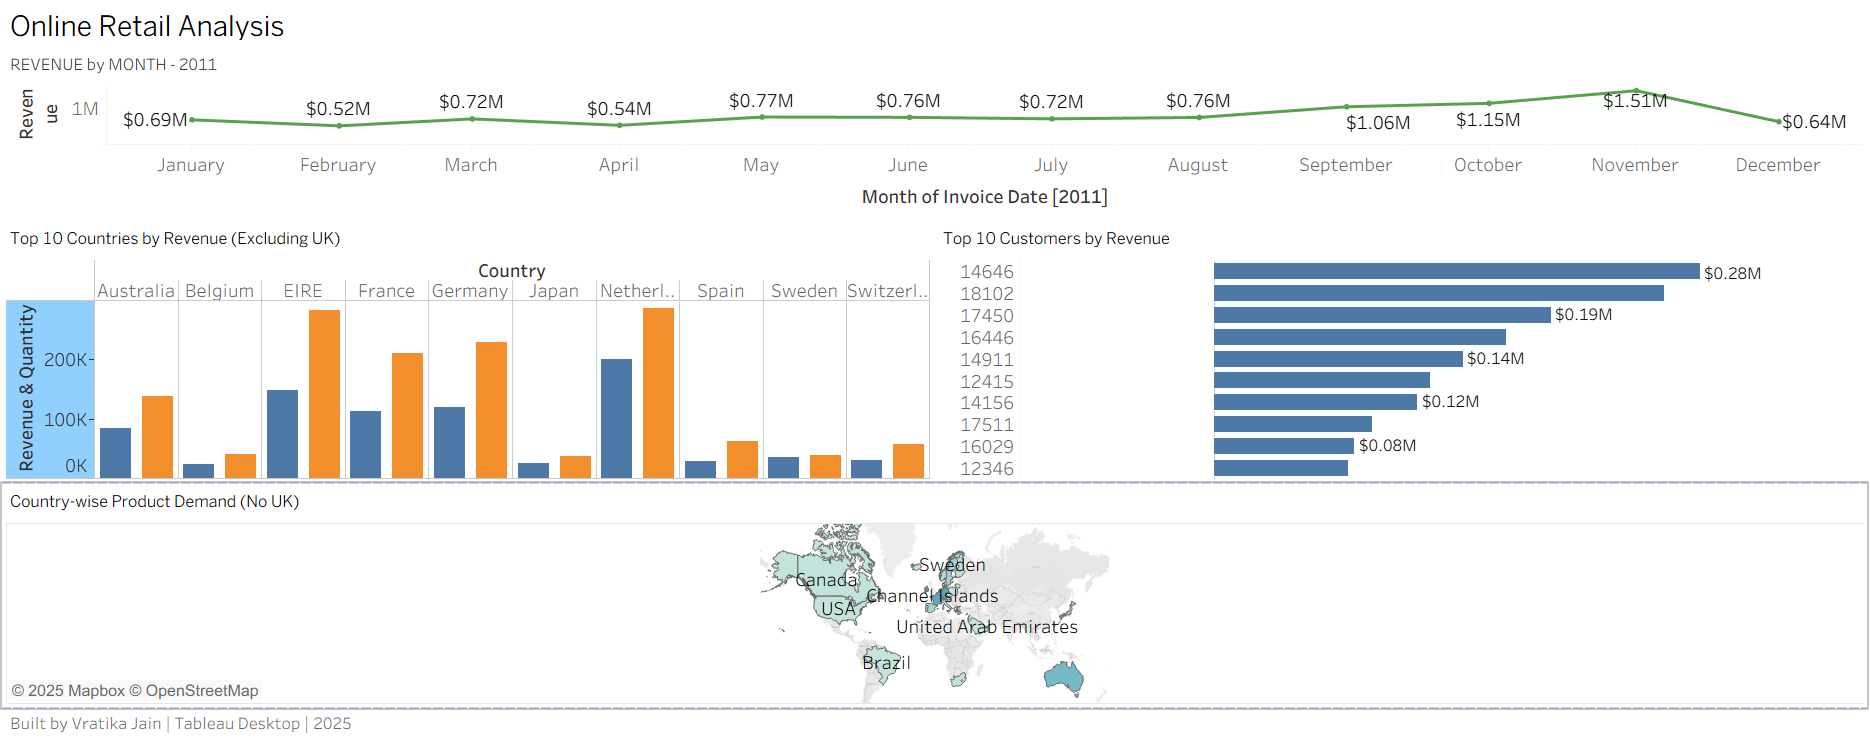

Layout of this report page (visuals, bound fields, positions):
{"tool":"tableau","page":{"name":"Online Retail Analysis","canvas":[1000,800],"ordinal":0},"visuals":[{"type":"title","box":[8,8,984,36]},{"type":"worksheet","title":"Revenue by Month (2011)","mark":"Line","rows":["Calculation_980940328365424640"],"cols":["InvoiceDate"],"box":[8,44,984,190]},{"type":"worksheet","title":"Top 10 Countries by Revenue (Excluding UK)","mark":"Bar","cols":["Country"],"box":[8,234,492,283.2]},{"type":"worksheet","title":"Top 10 Customers by Revenue","mark":"Automatic","rows":["CustomerID"],"cols":["Calculation_980940328365424640"],"box":[500,234,492,283.2]},{"type":"worksheet","title":"Country-wise Product Demand (No UK)","mark":"Automatic","box":[8,517.2,984,242.8]},{"type":"text","box":[8,760,984,32]}]}

Visuals, with their boxes on the page's 1000x800 design canvas (x1, y1, x2, y2). These are canvas units, not pixel positions in the 1870x739 screenshot, which may show the page scaled, cropped or inside an application window:
title: Rect(8, 8, 992, 44)
"Revenue by Month (2011)" worksheet (Line marks): Rect(8, 44, 992, 234)
"Top 10 Countries by Revenue (Excluding UK)" worksheet (Bar marks): Rect(8, 234, 500, 517)
"Top 10 Customers by Revenue" worksheet: Rect(500, 234, 992, 517)
"Country-wise Product Demand (No UK)" worksheet: Rect(8, 517, 992, 760)
text: Rect(8, 760, 992, 792)
